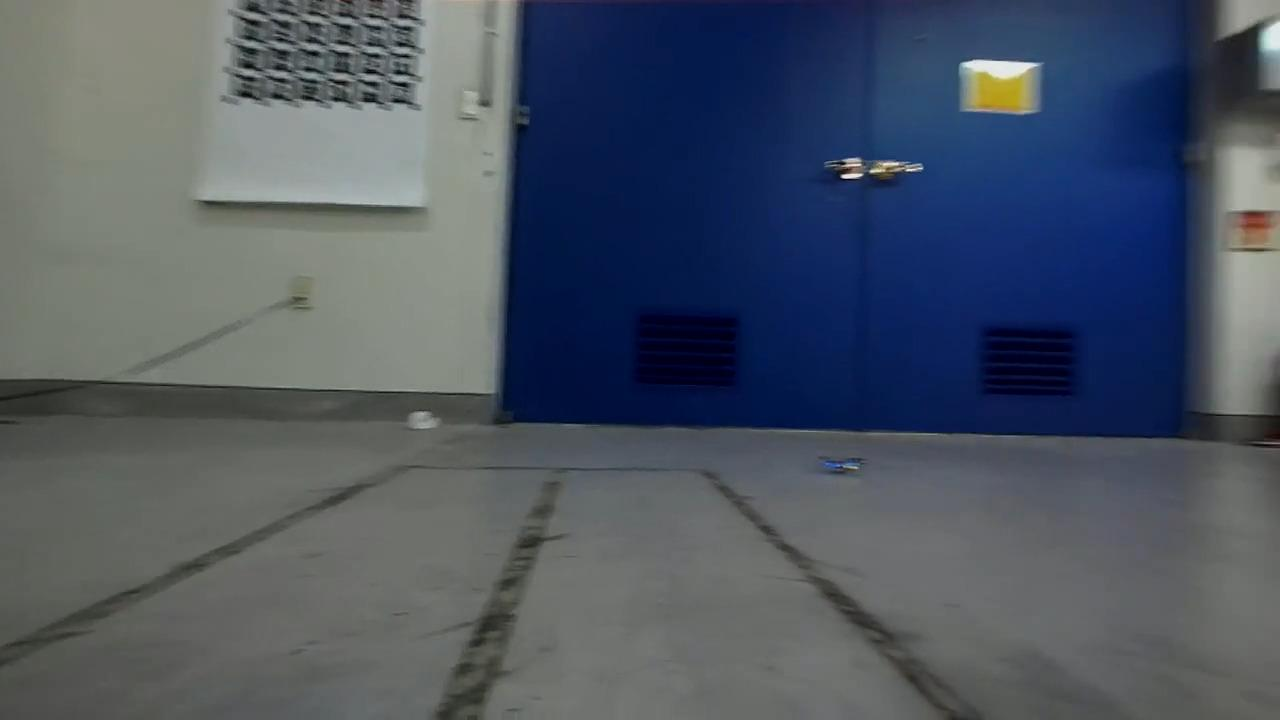crazyflie: (810, 448, 881, 482)
